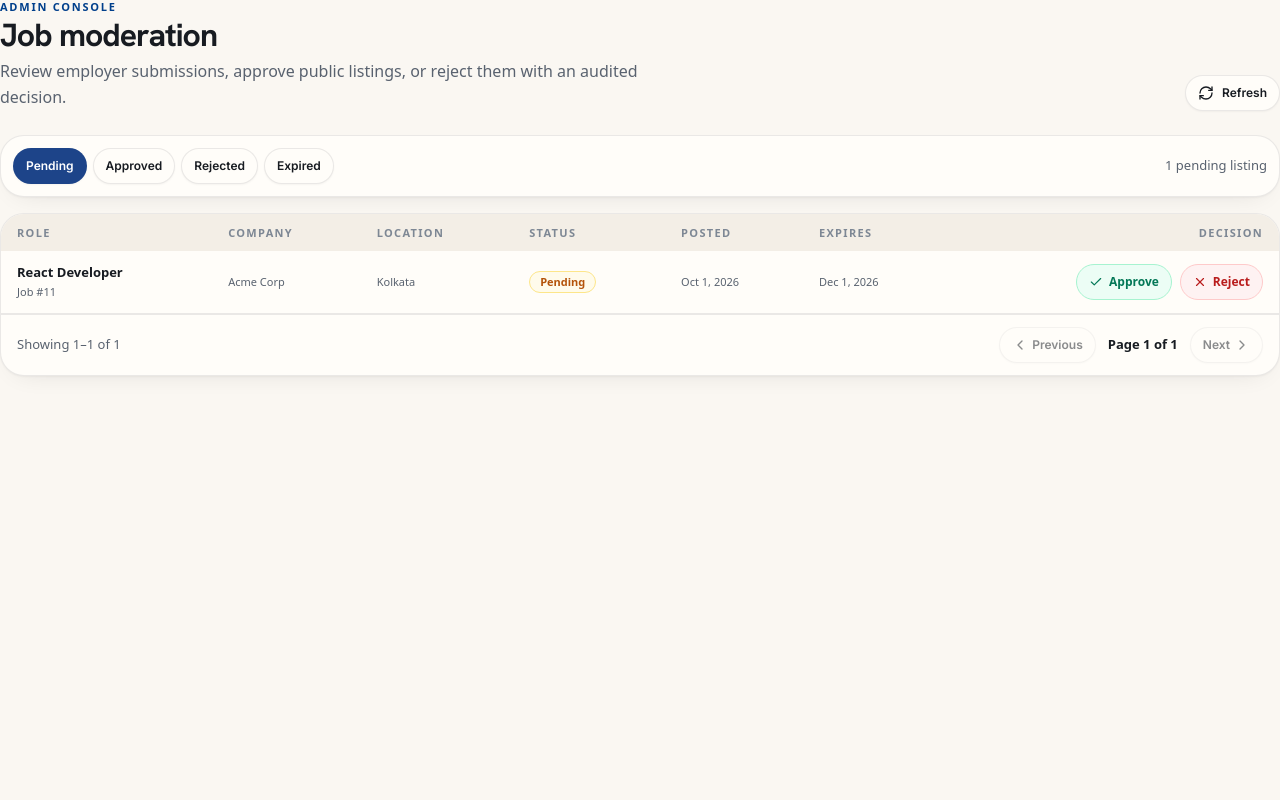
Test: AdminJobsPage › rejects through ConfirmDialog and posts to the reject endpoint
Expected: the text "React Developer" is shown, [17,263,123,281]
Click the button with aria-label "reject react developer".
click(1221, 282)  # box [1180,264,1263,300]
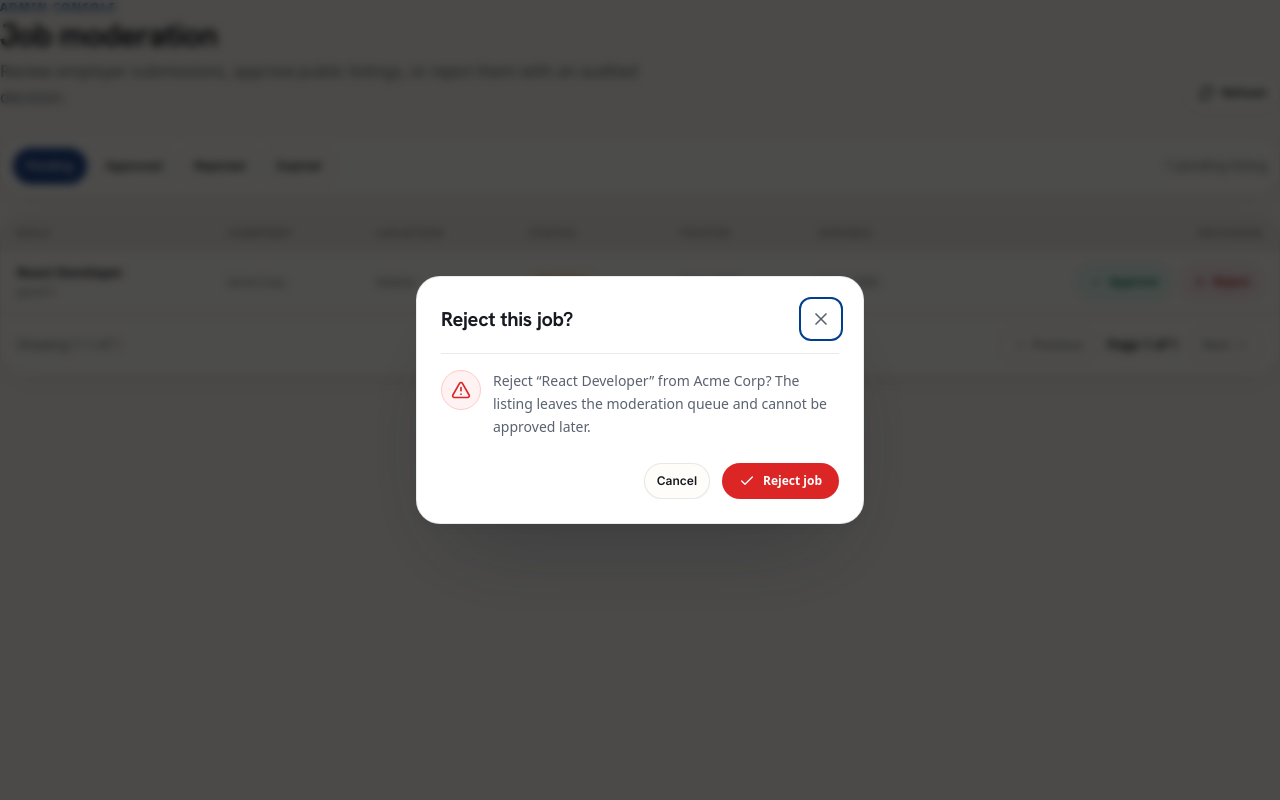
Click the button "Reject job".
click(780, 481)  # box [722,463,839,499]
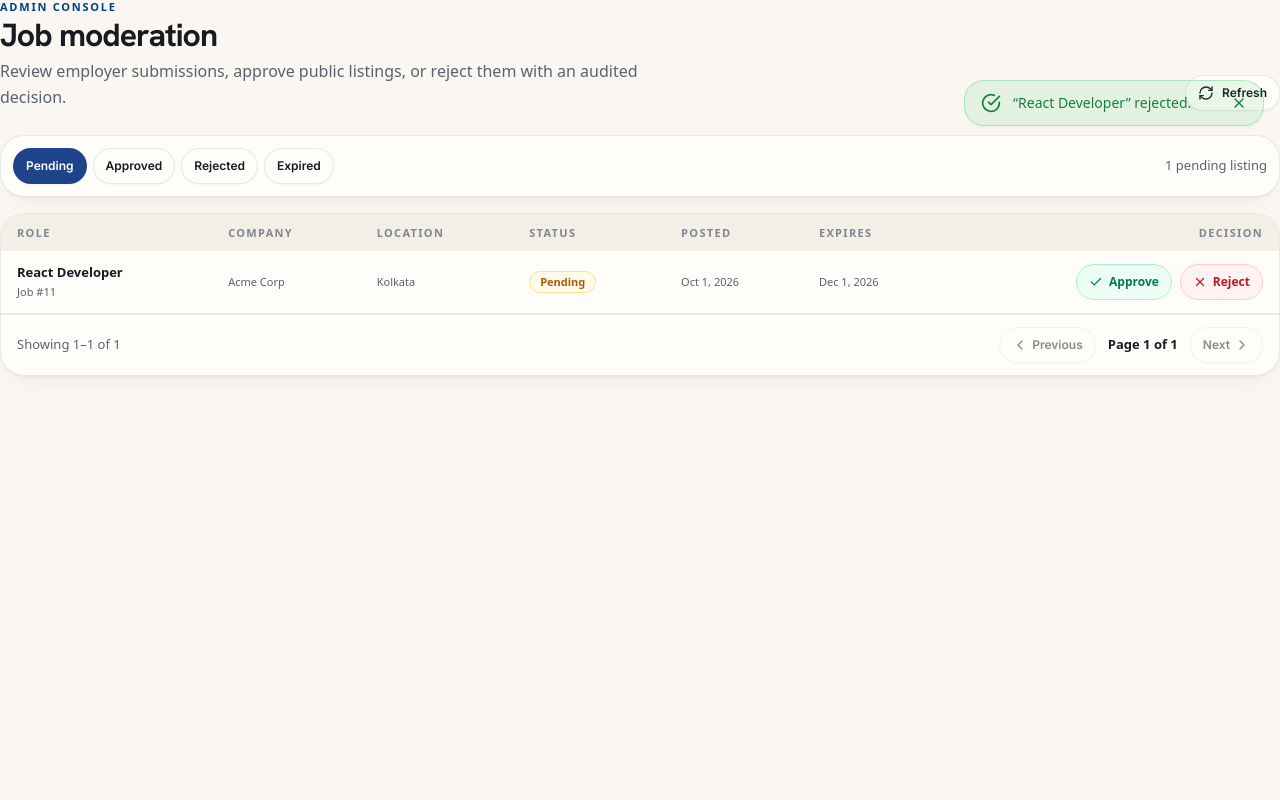
Now the text "“React Developer” rejected." is shown, box [1013,93,1219,113]
